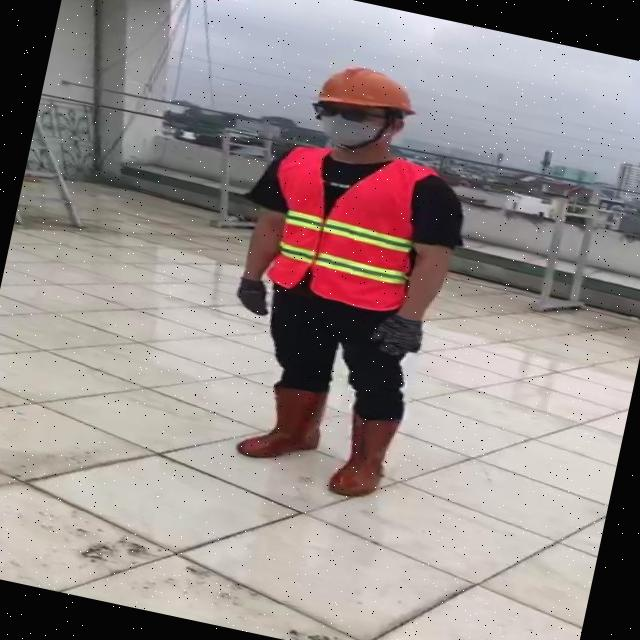boots: (235, 372, 334, 472), (324, 408, 401, 505)
